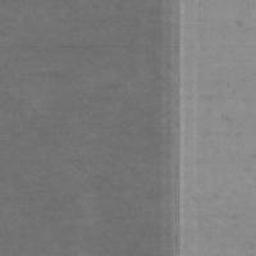Welding line: (175, 0, 182, 256)
